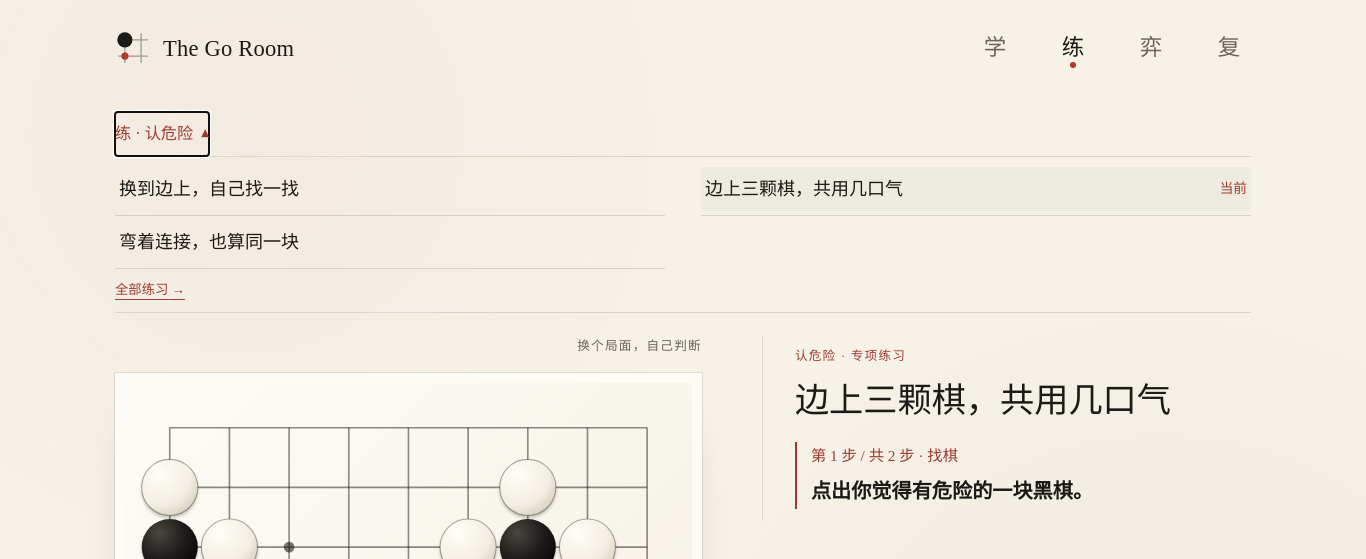
practice hub › lists the active group and preserves the current attempt when browsing it
Earlier steps of the test are not shown.
Later steps or results of the test are not shown.
Step 1. Click the button "换到边上，自己找一找" → (209,188), box [115,167,665,211]
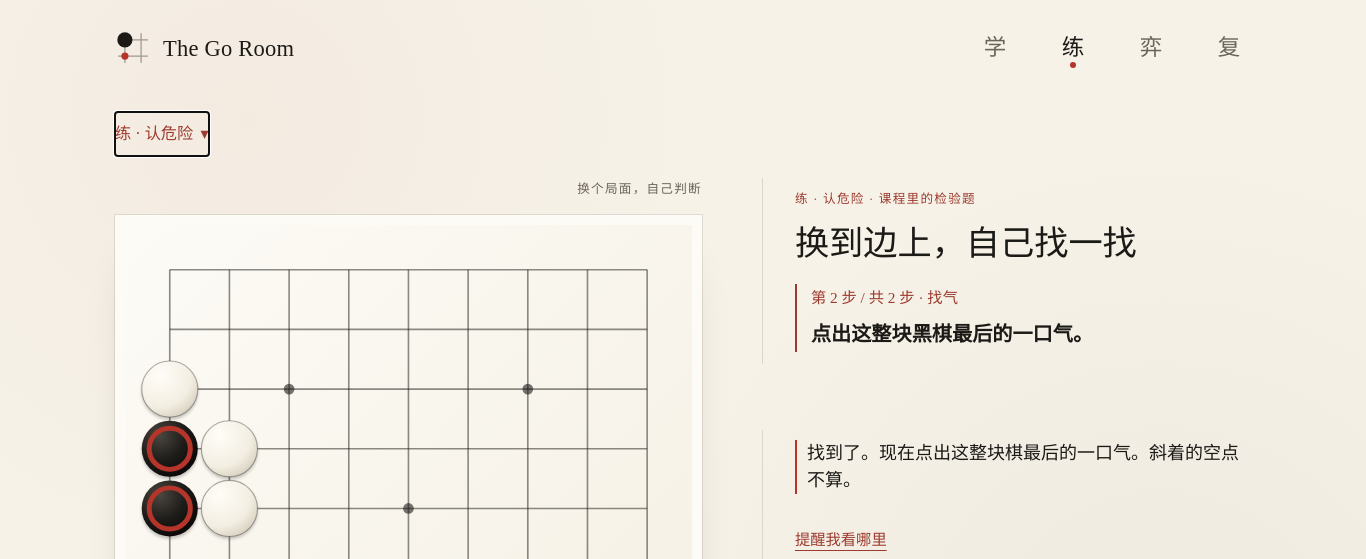
Now the text "第 2 步 / 共 2 步 · 找气" is shown, box [811,289,958,306]
Step 2. Click the heading "练 · 认危险 ▾" → (162,134), box [115,125,209,143]
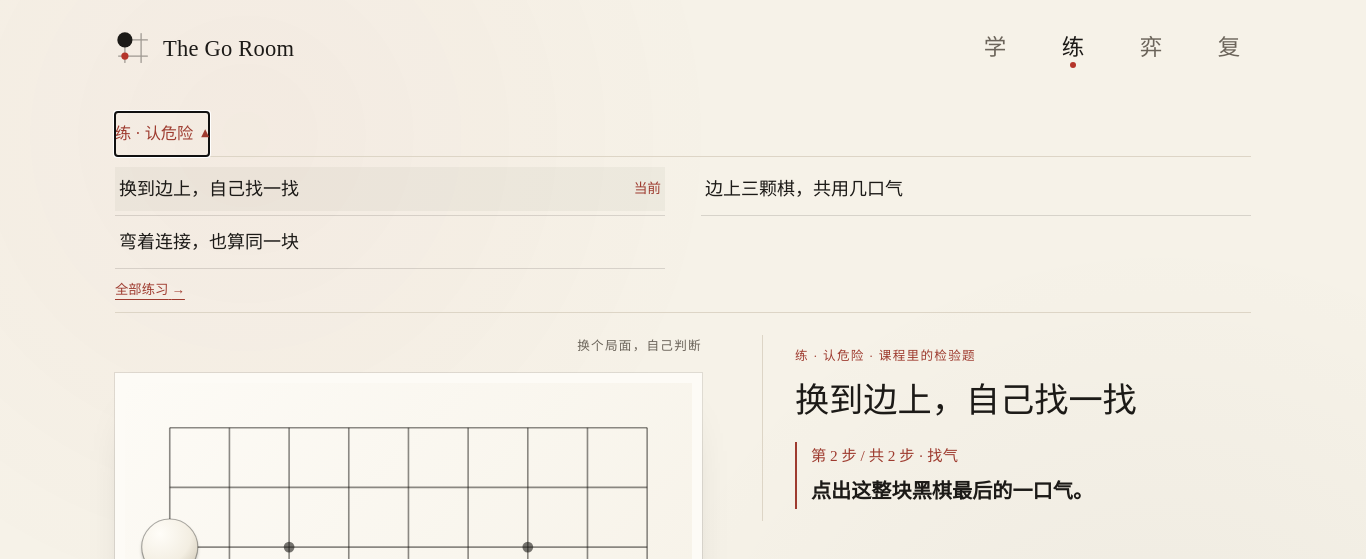
Step 3. Click the button "全部练习 →" → (150,290), box [115,273,185,306]
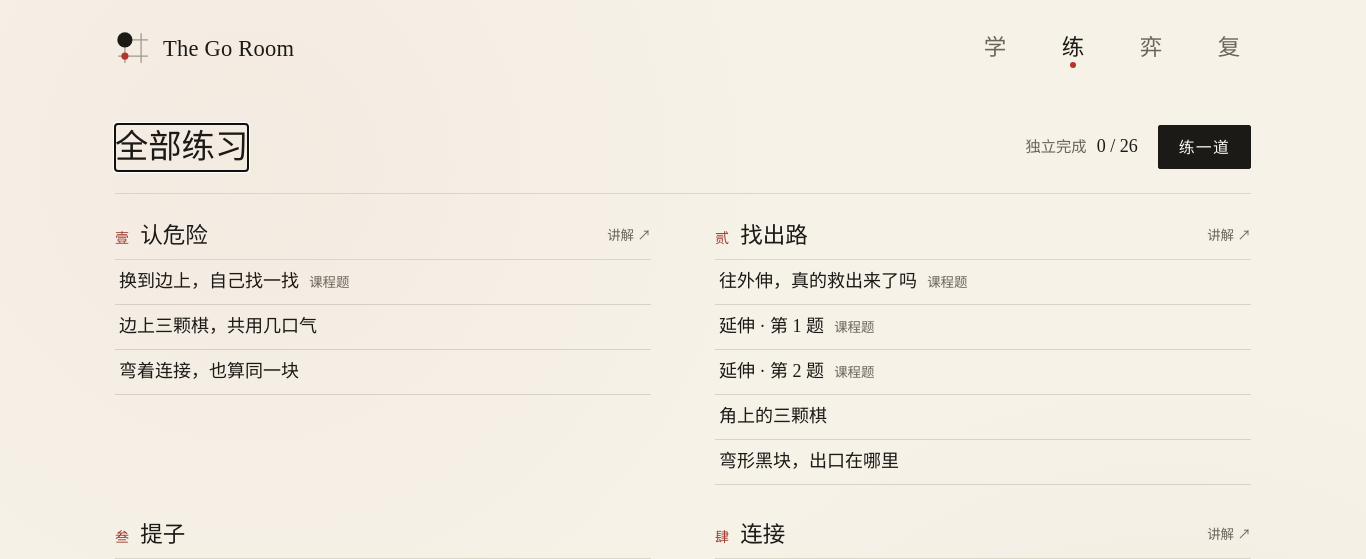
Step 4. Click the button "换到边上，自己找一找" → (209,281), box [115,260,651,304]
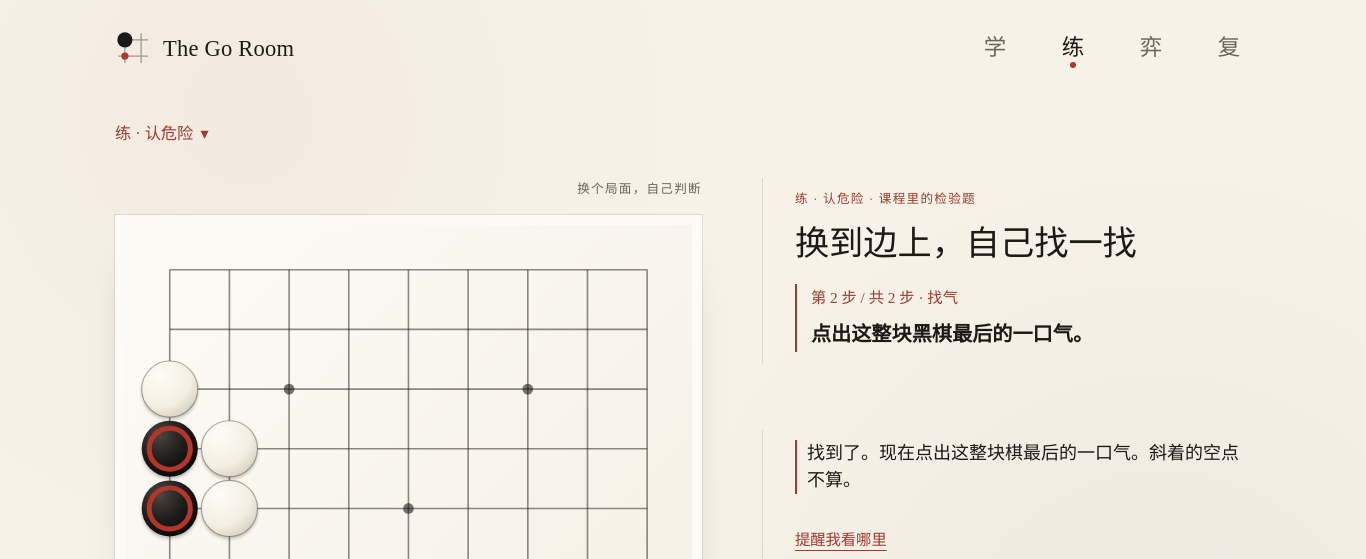
Now the text "第 2 步 / 共 2 步 · 找气" is shown, box [811,289,958,306]
Step 5. Click the button named "练习" → (1073,48), box [1051,26,1095,70]
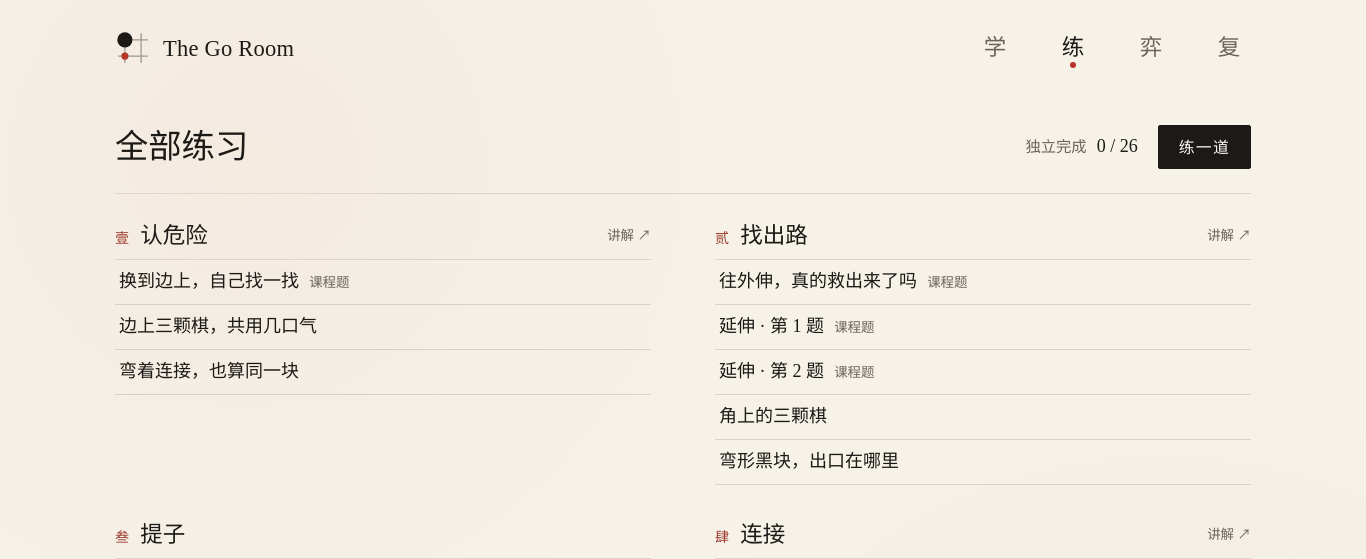
Now the number of list items is 26
Step 6. Click the button "换到边上，自己找一找" → (209,281), box [115,260,651,304]
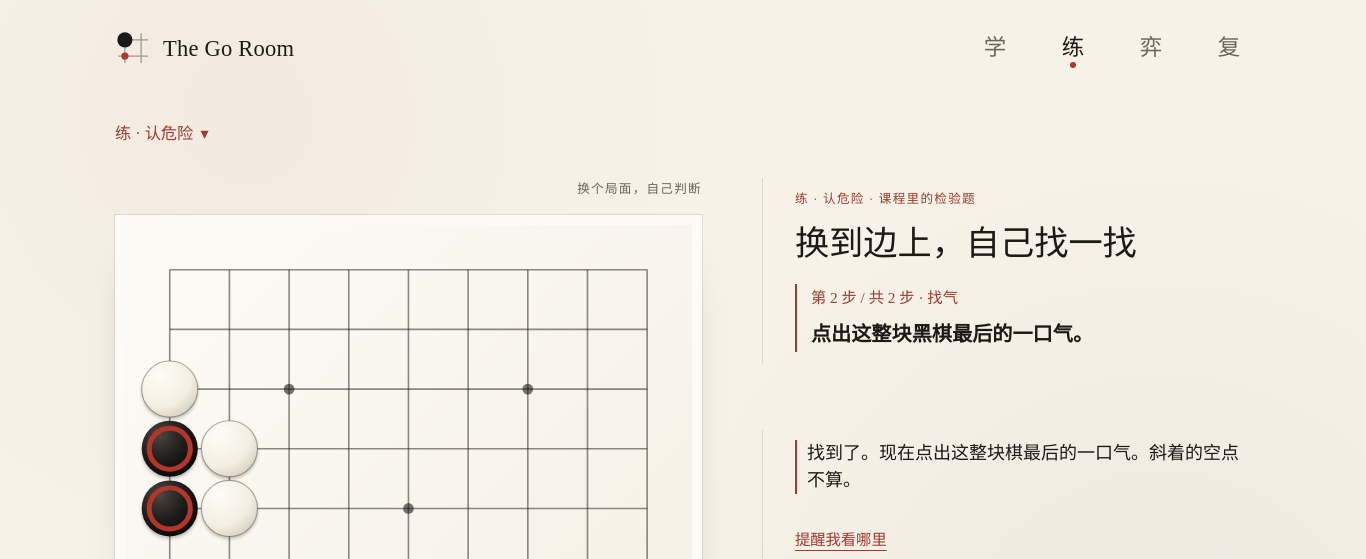
Now the text "第 2 步 / 共 2 步 · 找气" is shown, box [811,289,958,306]
